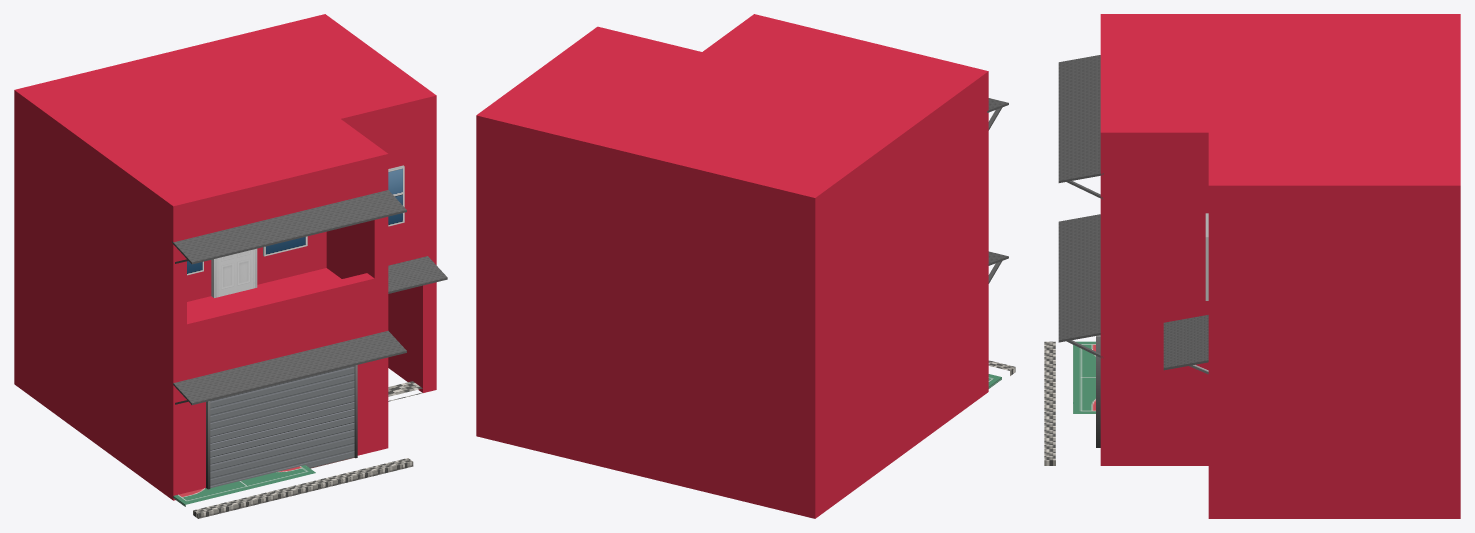
File: TetanggaBesar5.fbx
3 views of the same model, side by side, from view 1: azimuth 30°, elevation 25°; view 2: azimuth 150°, elevation 25°; view 3: azimuth 270°, elevation 25° (orthographic). The views are drawn at different scales.
Parts seen in each view (by area): view 1: Body1NPCT5_LOD0; view 2: Body1NPCT5_LOD0; view 3: Body1NPCT5_LOD0.
Part boxes in pixels (x1,y1,x2,y2): Body1NPCT5_LOD0: (14,14,447,518); Body1NPCT5_LOD0: (476,14,1015,518); Body1NPCT5_LOD0: (1044,14,1460,518).
Size of what is drawn, in the model's own units: 968 by 875 by 992.
